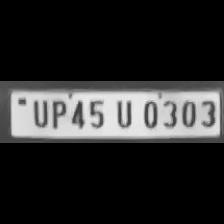0: (138, 98, 160, 128), (178, 98, 198, 127)
3: (198, 98, 218, 128), (160, 98, 178, 128)
4: (66, 97, 86, 128)
5: (84, 97, 107, 128)
P: (47, 97, 67, 128)
U: (110, 98, 136, 128), (28, 98, 50, 128)
